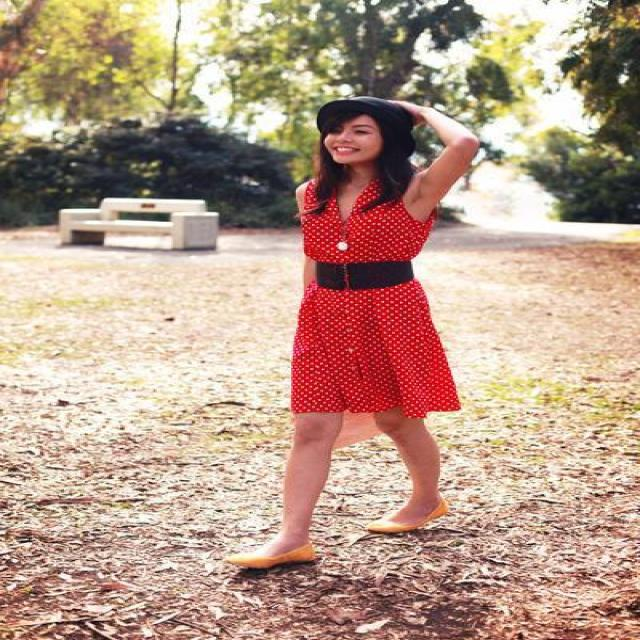dress: (292, 192, 462, 444)
hat: (317, 100, 421, 140)
shoe: (250, 545, 323, 566)
